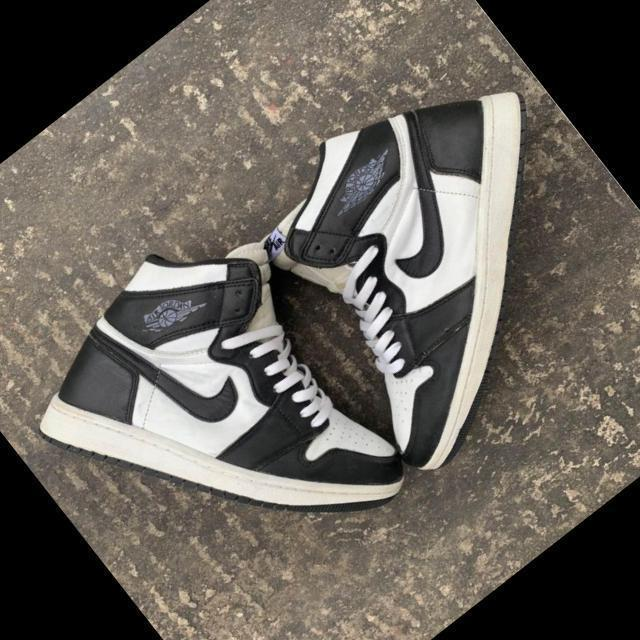nike fake jordan 1: (0, 176, 435, 640), (217, 24, 640, 483)
